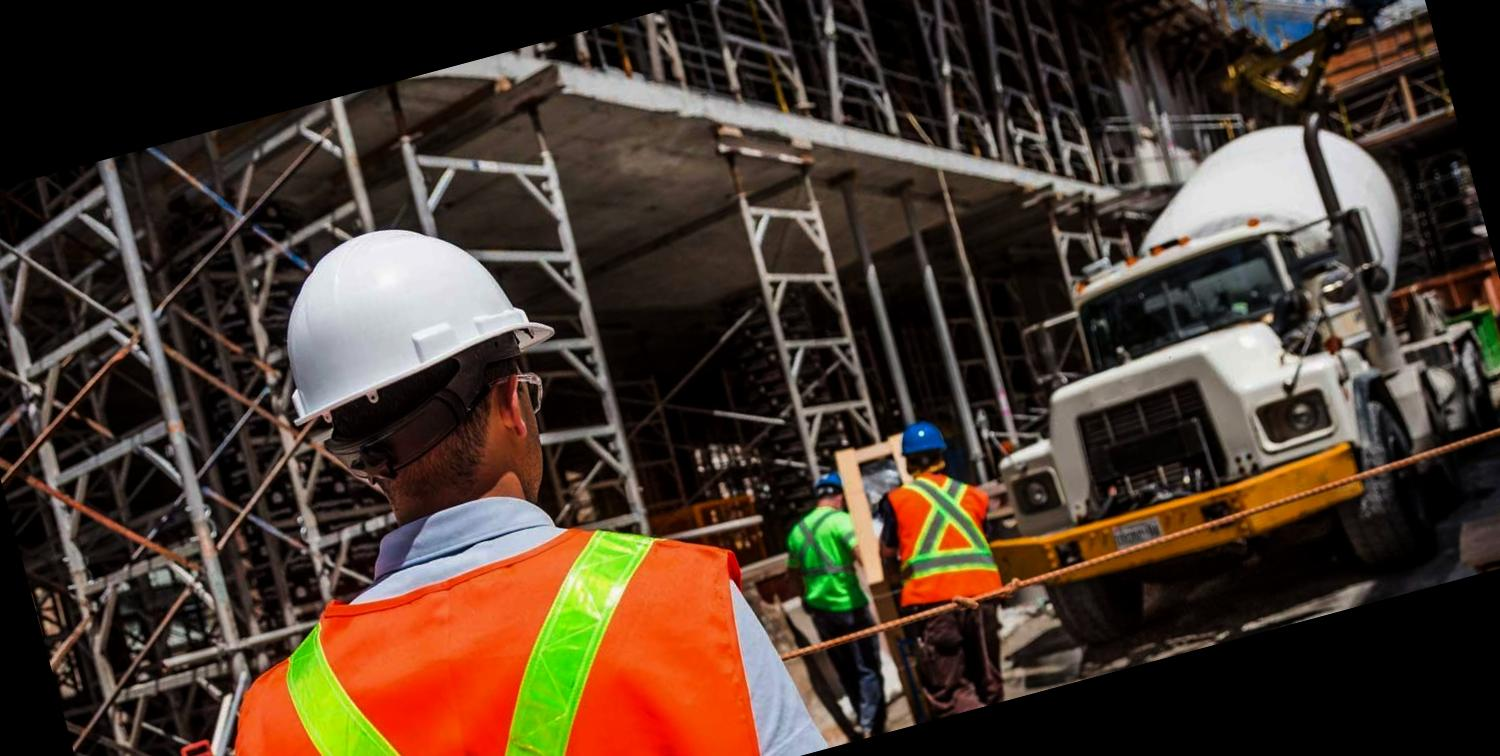helmet: (236, 186, 579, 441), (890, 410, 963, 476), (806, 464, 853, 508)
person: (62, 126, 829, 756), (832, 390, 1050, 726), (747, 457, 926, 750)
